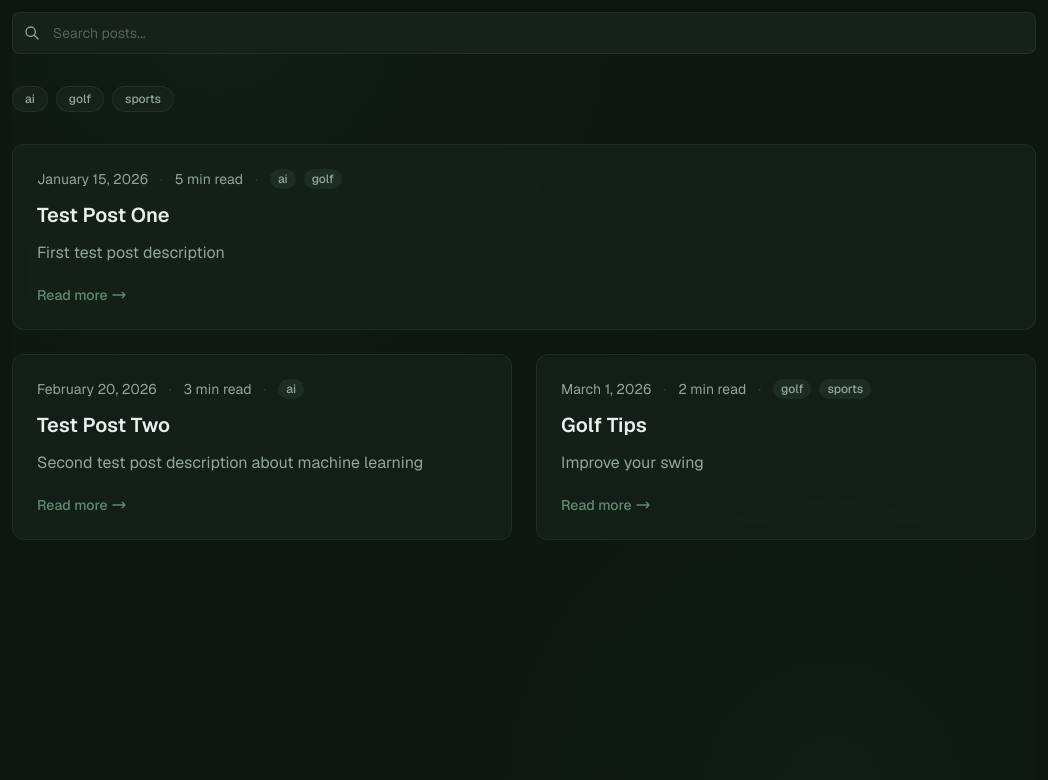
blog-post-list-search › filters posts by title search
The width and height of the screenshot is (1048, 780).
Type "Tips" into the field with placeholder "Search posts..." at (524, 33), box 12,12 -> 1036,54
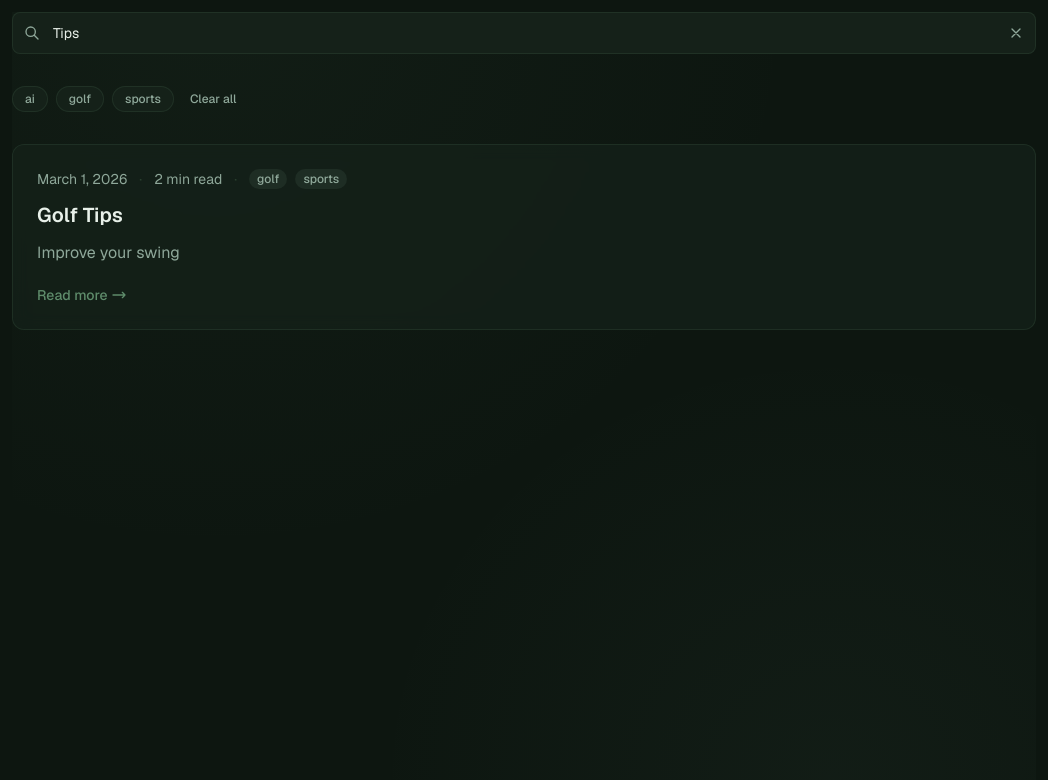
Expected: the link "Golf Tips" is shown, 37,202 -> 123,228
Expected: the link "Test Post One" is gone
Expected: the link "Test Post Two" is gone
